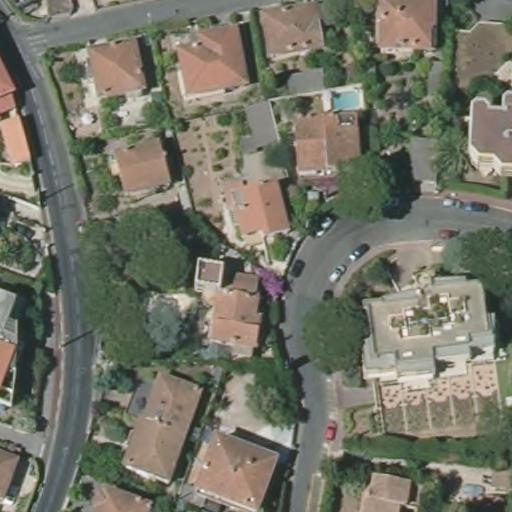pool: (328, 89, 364, 110)
